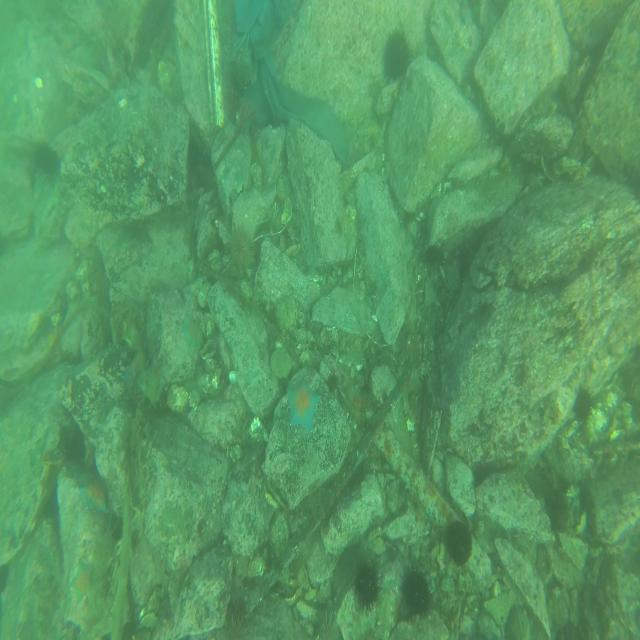echinus: (350, 557, 386, 618), (397, 560, 432, 620), (383, 22, 417, 82), (224, 221, 256, 276), (446, 516, 476, 573), (32, 136, 62, 179), (570, 382, 593, 422), (420, 239, 442, 270)
starfish: (288, 371, 322, 435), (70, 556, 97, 607), (76, 478, 111, 516), (180, 313, 201, 351)
